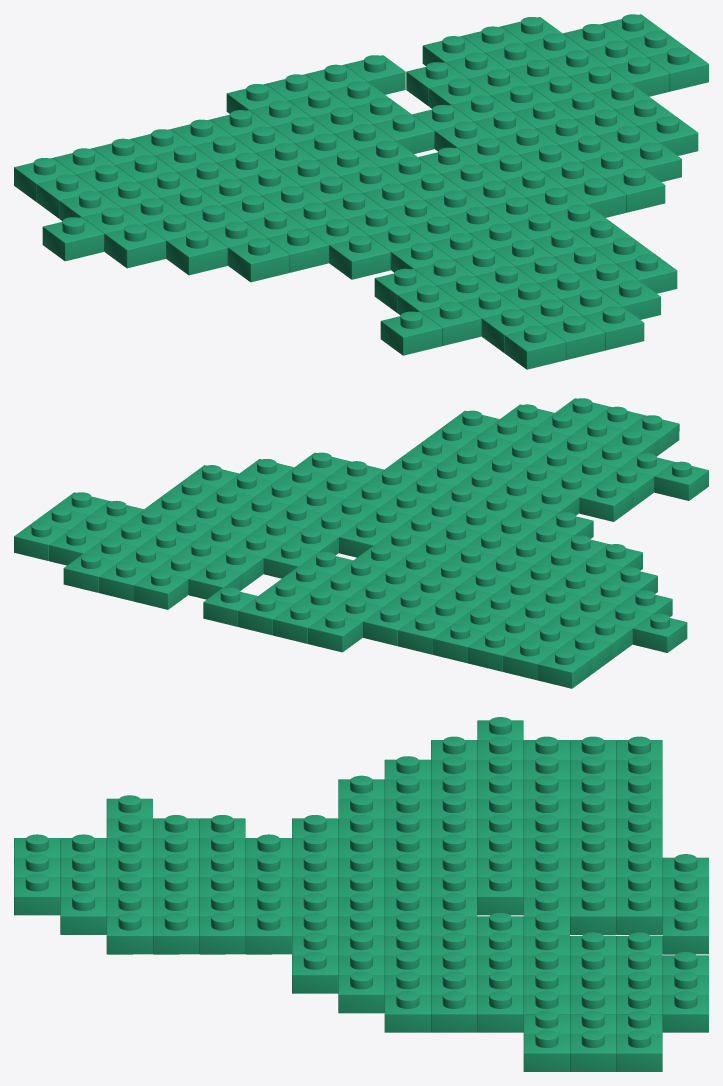
File: GreatBritain.fbx
3 renders of one model, top to bottom at view 1: azimuth 30°, elevation 25°; view 2: azimuth 150°, elevation 25°; view 3: azimuth 270°, elevation 25°, orthographic. The views are drawn at different scales.
Visible parts, largest first — view 1: Cylinder_86; view 2: Cylinder_86; view 3: Cylinder_86.
Boxes of the visible parts, bbox=[...] form: Cylinder_86: bbox=[14, 14, 708, 369]; Cylinder_86: bbox=[14, 398, 708, 688]; Cylinder_86: bbox=[14, 717, 708, 1071].
Bounding box in the file's own units: 1700 × 65.03 × 1500.
